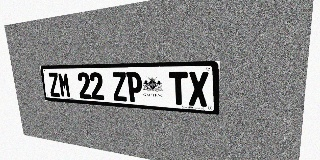2: (89, 72, 104, 100), (77, 72, 92, 99)
M: (58, 72, 71, 98)
P: (126, 72, 143, 103)
T: (169, 72, 188, 105)
X: (188, 71, 208, 107)
Z: (111, 72, 128, 102), (47, 72, 61, 97)
